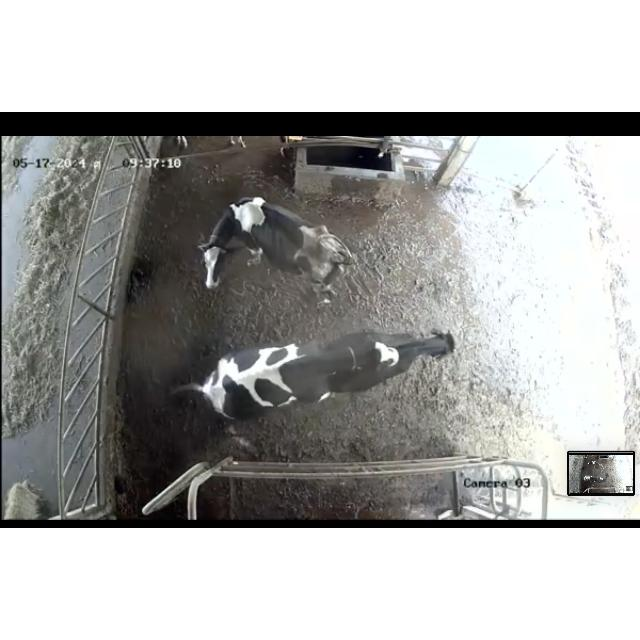ride: (160, 332, 402, 431)
stand: (182, 188, 384, 320), (336, 322, 472, 406)
